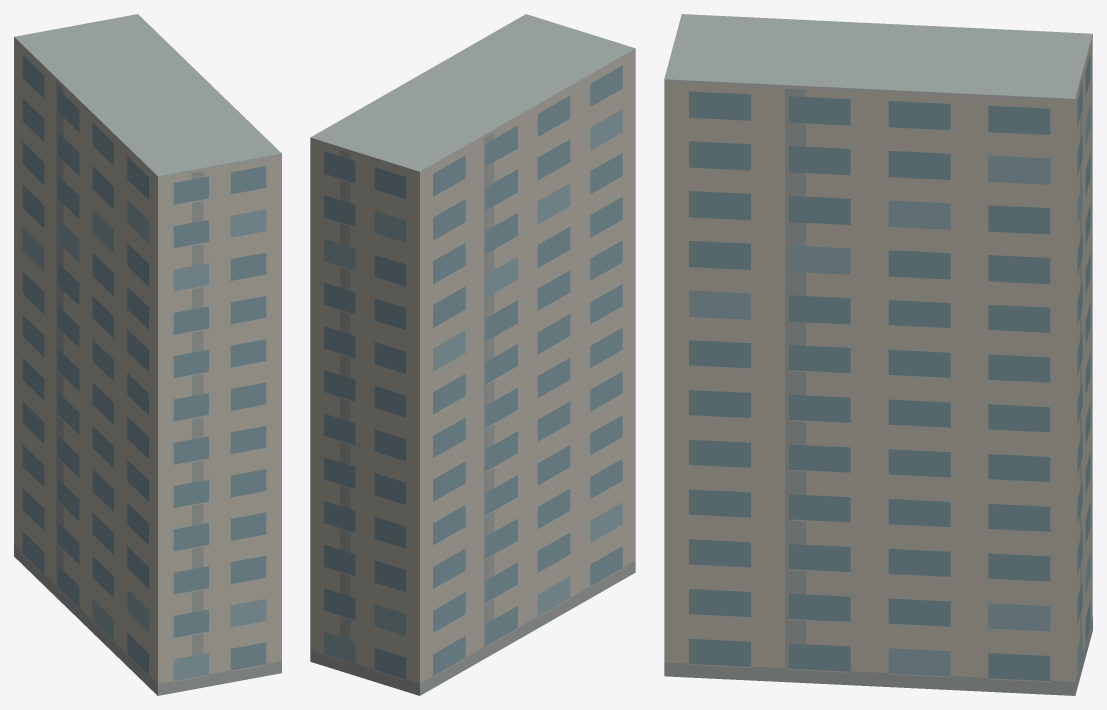
File: residential-6ffacab7-dedb-493c-8a72-041c3b3bd114.glb
3 views of the same model, side by side, from view 1: azimuth 30°, elevation 25°; view 2: azimuth 150°, elevation 25°; view 3: azimuth 270°, elevation 25° (orthographic). The views are drawn at different scales.
Visible parts, largest first — view 1: residential-6ffacab7-dedb-493c-8a72-041c3b3bd114.tmp; view 2: residential-6ffacab7-dedb-493c-8a72-041c3b3bd114.tmp; view 3: residential-6ffacab7-dedb-493c-8a72-041c3b3bd114.tmp.
Boxes of the visible parts, <box> form: residential-6ffacab7-dedb-493c-8a72-041c3b3bd114.tmp: <box>14,14,281,695</box>; residential-6ffacab7-dedb-493c-8a72-041c3b3bd114.tmp: <box>310,14,635,695</box>; residential-6ffacab7-dedb-493c-8a72-041c3b3bd114.tmp: <box>664,14,1092,695</box>.
Size of the model in its own units: 11.59 by 38 by 24.74.
